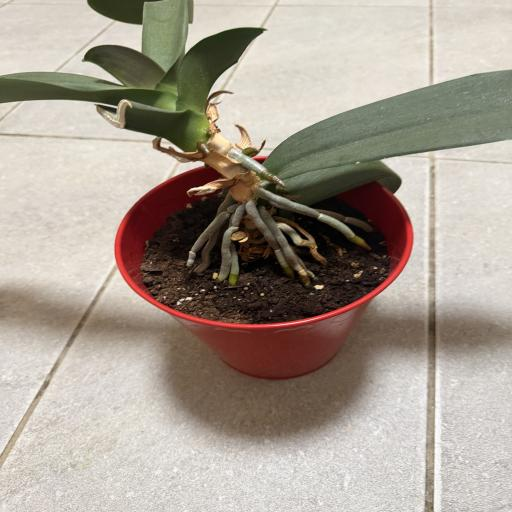Plant Pot: (112, 154, 414, 380)
